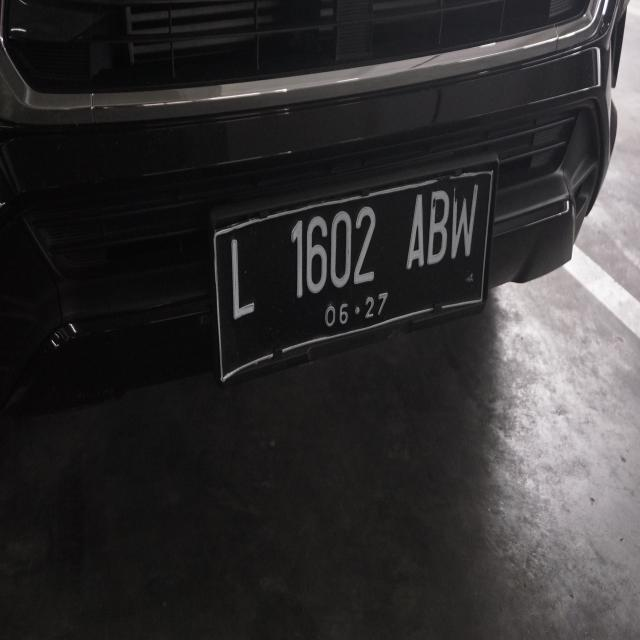0: (326, 210, 356, 288)
1: (280, 221, 308, 309)
2: (350, 202, 380, 294)
6: (305, 212, 330, 299)
A: (402, 189, 428, 287)
B: (426, 184, 450, 270)
L: (218, 229, 260, 330)
W: (450, 182, 480, 272)
